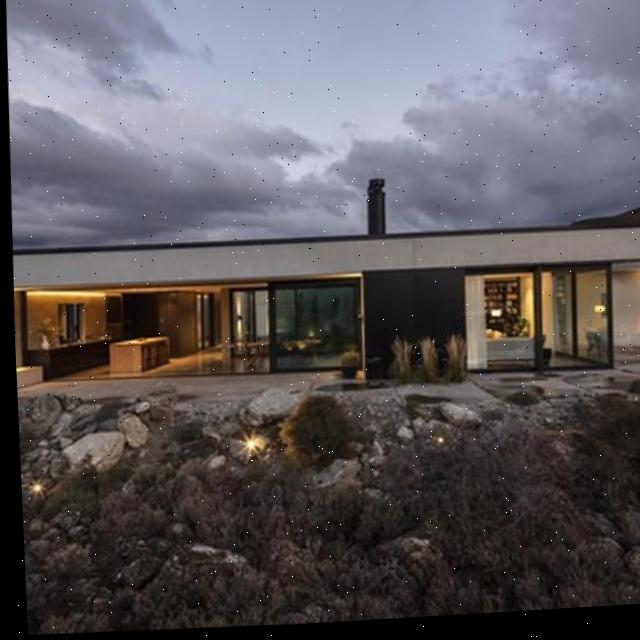building: (11, 205, 640, 408)
